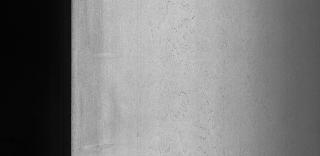silk spot: (149, 3, 243, 151)
